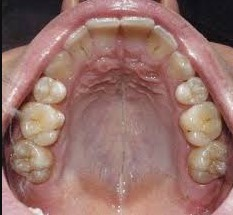UL1BC_healthy: (177, 78, 209, 103)
UL1M_healthy: (189, 143, 230, 183)
UL2BC_decay: (181, 103, 222, 143)
ULCI_healthy: (121, 16, 153, 50)
ULC_healthy: (166, 52, 196, 80)
ULLI_healthy: (153, 25, 175, 60)
UR1BC_healthy: (36, 77, 67, 103)
UR1M_healthy: (11, 140, 55, 183)
UR2BC_healthy: (18, 103, 66, 147)
URCI_healthy: (88, 16, 120, 47)
URC_healthy: (47, 53, 74, 79)
URLI_healthy: (66, 26, 91, 60)
